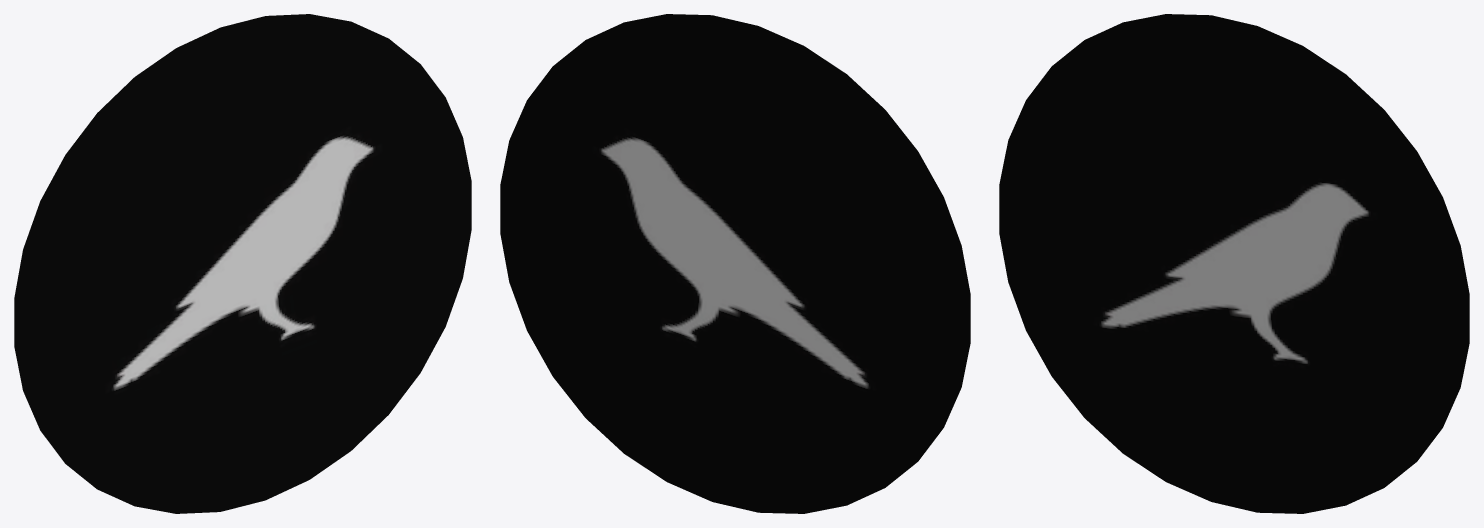
File: Kusama.gltf
3 renders of one model, left to right at view 1: azimuth 30°, elevation 25°; view 2: azimuth 150°, elevation 25°; view 3: azimuth 330°, elevation 25°, orthographic.
Visible parts, largest first — view 1: Cylinder; view 2: Cylinder; view 3: Cylinder.
Boxes of the visible parts, x1,y1,x2,y2 form: Cylinder: (14, 14, 471, 513); Cylinder: (500, 14, 970, 513); Cylinder: (999, 14, 1469, 513).
Size of the model in its own units: 1.99 by 1.99 by 0.0405.
1 material, 1 textured.
